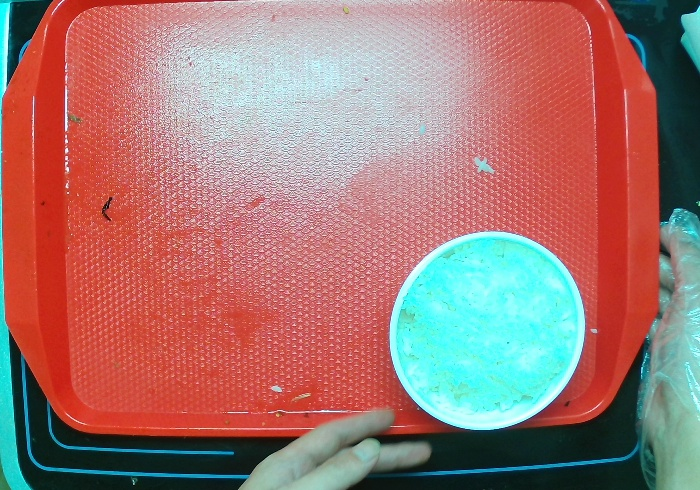YKMZ-Fan_Wan: (388, 230, 587, 432)
